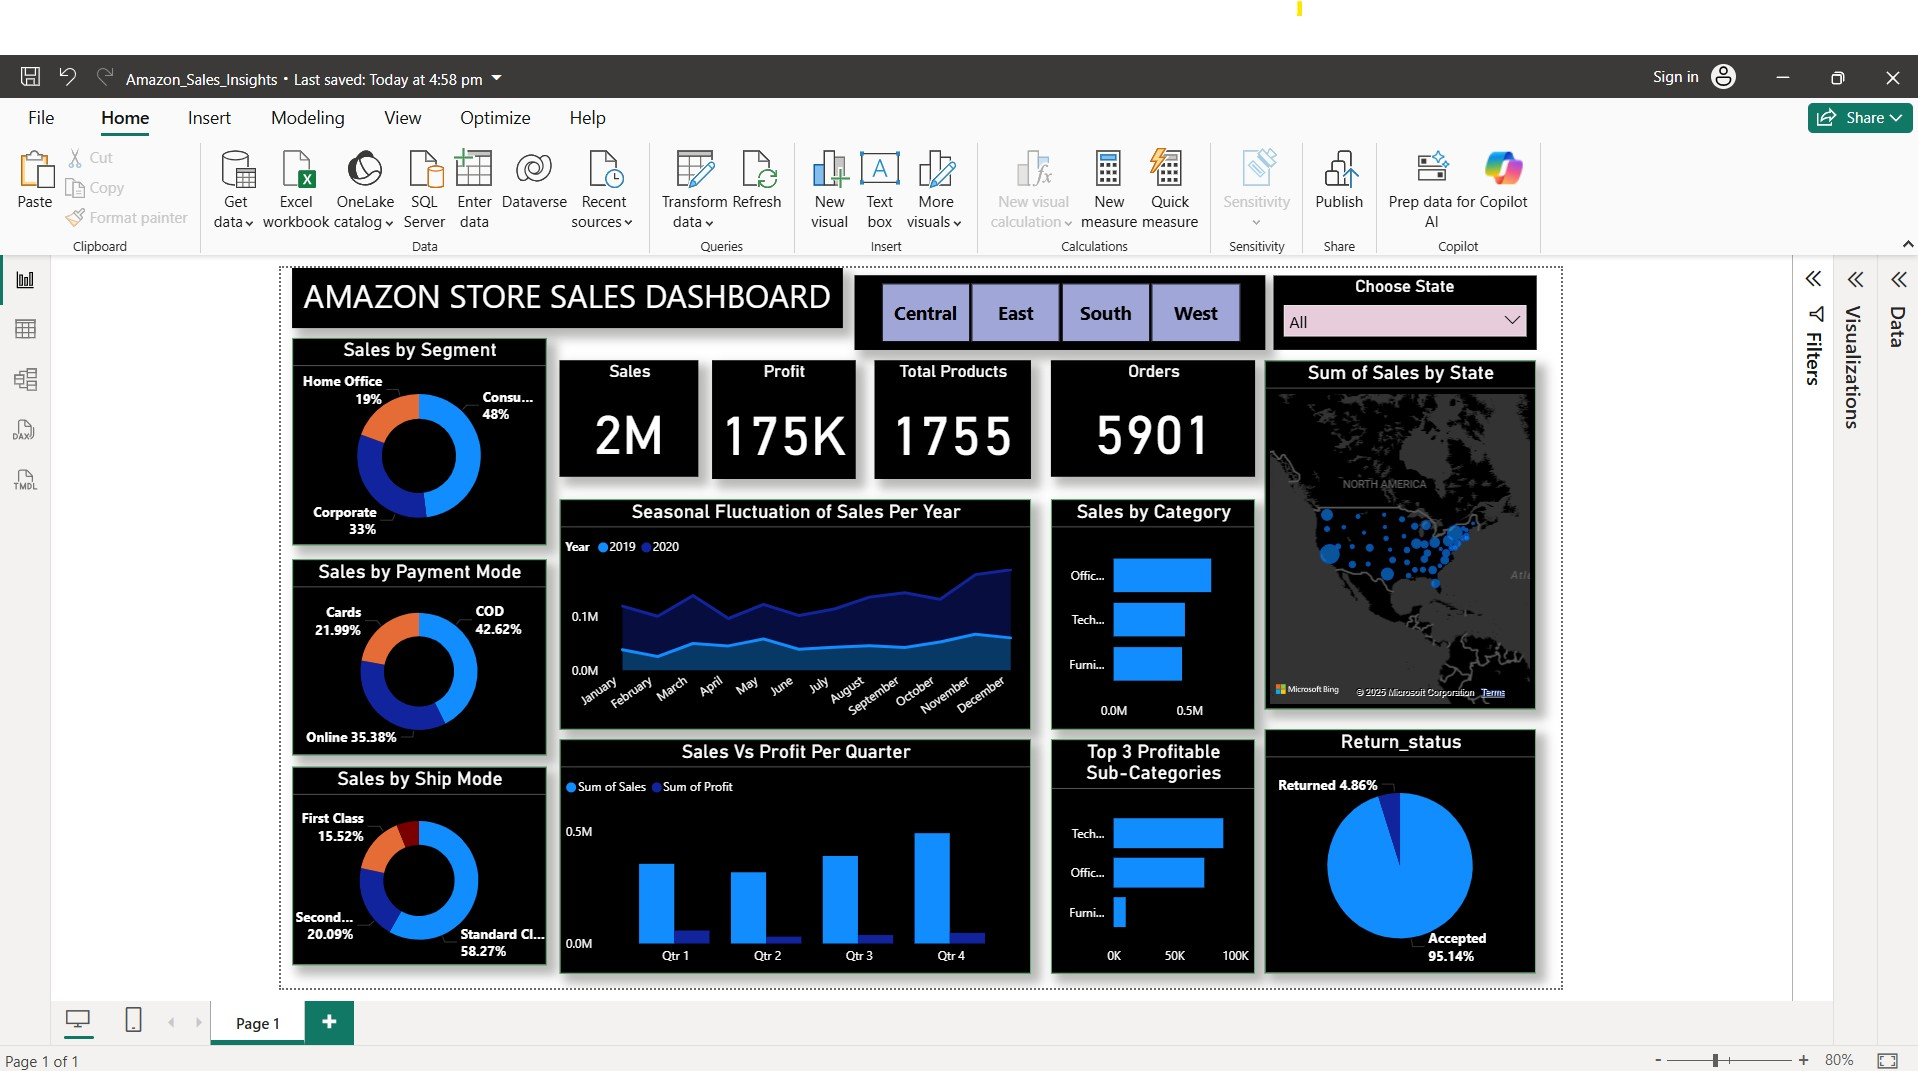

What the dashboard file says about the page in this screenshot:
{"tool":"powerbi","page":{"name":"Page 1","canvas":[1280,720],"ordinal":0},"visuals":[{"type":"clusteredBarChart","title":"Sales by Category","fields":{"Category":["Amazon Store Sales Data xlsx - Sheet1 (1).Category"],"Y":["Sum(Amazon Store Sales Data xlsx - Sheet1 (1).Sales)"]},"box":[770,231.4,204.3,230],"z":0},{"type":"clusteredBarChart","title":"Top 3 Profitable Sub-Categories","fields":{"Y":["Sum(Amazon Store Sales Data xlsx - Sheet1 (1).Profit)"],"Category":["Amazon Store Sales Data xlsx - Sheet1 (1).Category"]},"box":[770,471.4,204.3,234.3],"z":1000},{"type":"donutChart","title":"Sales by Segment","fields":{"Category":["Amazon Store Sales Data xlsx - Sheet1 (1).Segment"],"Y":["Sum(Amazon Store Sales Data xlsx - Sheet1 (1).Sales)"]},"box":[11.4,70,254.3,207.1],"z":2000},{"type":"donutChart","title":"Sales by Payment Mode","fields":{"Y":["Sum(Amazon Store Sales Data xlsx - Sheet1 (1).Sales)"],"Category":["Amazon Store Sales Data xlsx - Sheet1 (1).Payment Mode"]},"box":[11.4,291.4,254.3,195.7],"z":3000},{"type":"donutChart","title":"Sales by Ship Mode","fields":{"Y":["Sum(Amazon Store Sales Data xlsx - Sheet1 (1).Sales)"],"Category":["Amazon Store Sales Data xlsx - Sheet1 (1).Ship Mode"]},"box":[11.4,498.6,254.3,198.6],"z":4000},{"type":"clusteredColumnChart","title":"Sales Vs Profit Per Quarter","fields":{"Category":["Amazon Store Sales Data xlsx - Sheet1 (1).Order Date.Variation.Date Hierarchy.Quarter"],"Y":["Sum(Amazon Store Sales Data xlsx - Sheet1 (1).Sales)","Sum(Amazon Store Sales Data xlsx - Sheet1 (1).Profit)"]},"box":[278.6,471.4,471.4,234.3],"z":5000},{"type":"map","fields":{"Category":["Amazon Store Sales Data xlsx - Sheet1 (1).State"],"Size":["Sum(Amazon Store Sales Data xlsx - Sheet1 (1).Sales)"]},"box":[984.3,92.9,271.4,348.6],"z":6000},{"type":"stackedAreaChart","title":"Seasonal Fluctuation of Sales Per Year","fields":{"Y":["Sum(Amazon Store Sales Data xlsx - Sheet1 (1).Sales)"],"Series":["Amazon Store Sales Data xlsx - Sheet1 (1).Order Date.Variation.Date Hierarchy.Year"],"Category":["Amazon Store Sales Data xlsx - Sheet1 (1).Order Date.Variation.Date Hierarchy.Month"]},"box":[278.6,231.4,471.4,230],"z":7000},{"type":"textbox","box":[11.4,0,550,60],"z":7001},{"type":"card","title":"Sales","fields":{"Values":["Sum(Amazon Store Sales Data xlsx - Sheet1 (1).Sales)"]},"box":[278.6,92.9,138.6,115.7],"z":7002},{"type":"card","title":"Profit","fields":{"Values":["Sum(Amazon Store Sales Data xlsx - Sheet1 (1).Profit)"]},"box":[431.4,92.9,142.9,118.6],"z":7003},{"type":"card","title":"Orders","fields":{"Values":["CountNonNull(Amazon Store Sales Data xlsx - Sheet1 (1).Order ID)"]},"box":[770,92.9,204.3,115.7],"z":7004},{"type":"card","title":"Total Products","fields":{"Values":["Count(Amazon Store Sales Data xlsx - Sheet1 (1).Product ID)"]},"box":[594.3,92.9,155.7,118.6],"z":7005},{"type":"pieChart","title":"Return_status","fields":{"Category":["Amazon Store Sales Data xlsx - Sheet1 (1).Return_status"],"Y":["CountNonNull(Amazon Store Sales Data xlsx - Sheet1 (1).Order ID)"]},"box":[984.3,461.4,271.4,244.3],"z":7006},{"type":"slicer","fields":{"Values":["Amazon Store Sales Data xlsx - Sheet1 (1).Region"]},"box":[574.3,7.1,410,74.3],"z":7007},{"type":"slicer","title":"Choose State","fields":{"Values":["Amazon Store Sales Data xlsx - Sheet1 (1).State"]},"box":[992.9,7.1,262.9,74.3],"z":7008}]}

Visuals, with their boxes on the page's 1280x720 design canvas (x1, y1, x2, y2). These are canvas units, not pixel positions in the 1918x1071 screenshot, which may show the page scaled, cropped or inside an application window:
"Sales by Category" clusteredBarChart: BBox(770, 231, 974, 461)
"Top 3 Profitable Sub-Categories" clusteredBarChart: BBox(770, 471, 974, 706)
"Sales by Segment" donutChart: BBox(11, 70, 266, 277)
"Sales by Payment Mode" donutChart: BBox(11, 291, 266, 487)
"Sales by Ship Mode" donutChart: BBox(11, 499, 266, 697)
"Sales Vs Profit Per Quarter" clusteredColumnChart: BBox(279, 471, 750, 706)
map - Amazon Store Sales Data xlsx - Sheet1 (1).State x Sum(Amazon Store Sales Data xlsx - Sheet1 (1).Sales): BBox(984, 93, 1256, 442)
"Seasonal Fluctuation of Sales Per Year" stackedAreaChart: BBox(279, 231, 750, 461)
textbox: BBox(11, 0, 561, 60)
"Sales" card: BBox(279, 93, 417, 209)
"Profit" card: BBox(431, 93, 574, 212)
"Orders" card: BBox(770, 93, 974, 209)
"Total Products" card: BBox(594, 93, 750, 212)
"Return_status" pieChart: BBox(984, 461, 1256, 706)
slicer - Amazon Store Sales Data xlsx - Sheet1 (1).Region: BBox(574, 7, 984, 81)
"Choose State" slicer: BBox(993, 7, 1256, 81)
